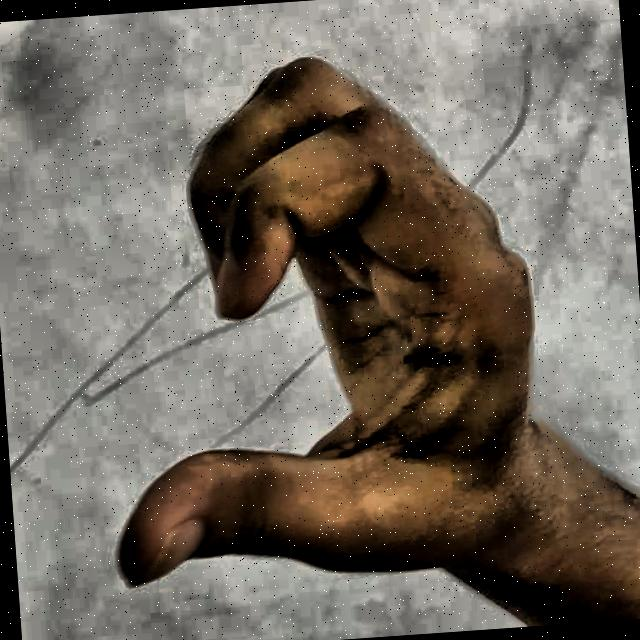Kha: (32, 0, 598, 627)
